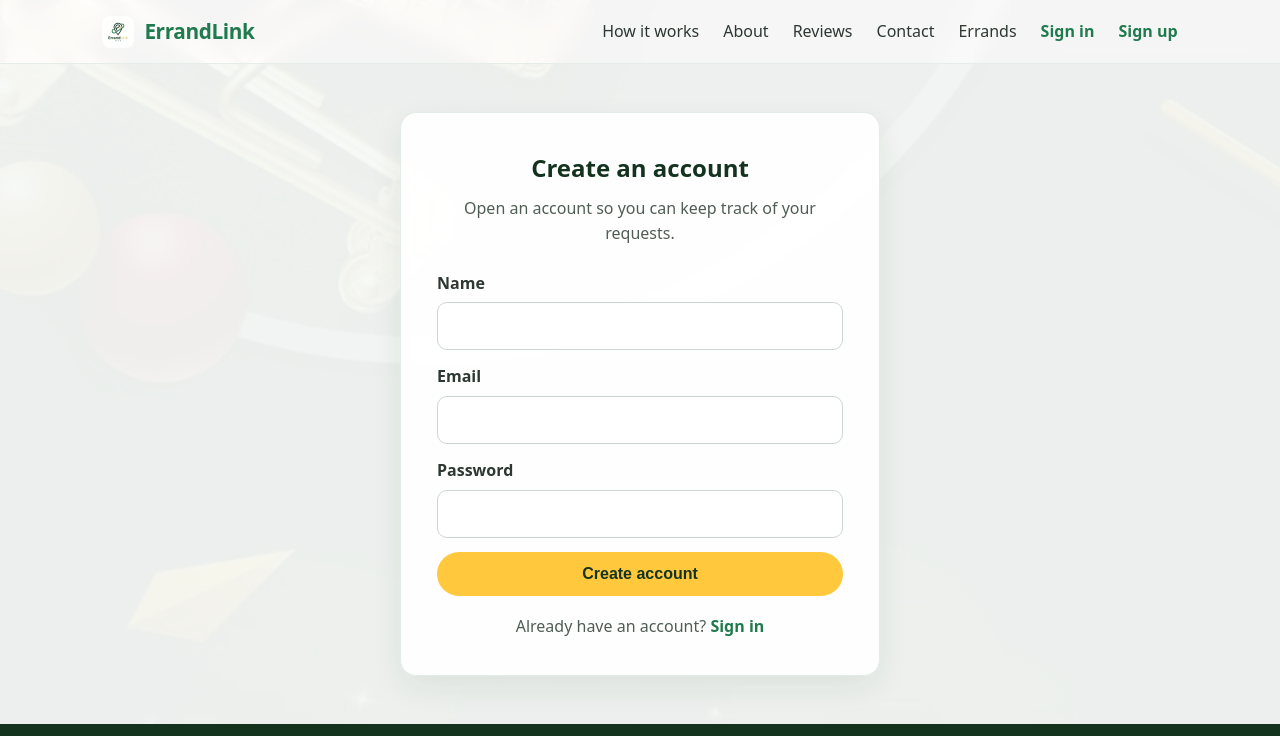
it: authentication › registers a new account
Type "Ada" into the field labelled "Name" at (640, 326), box [437,302,843,350]
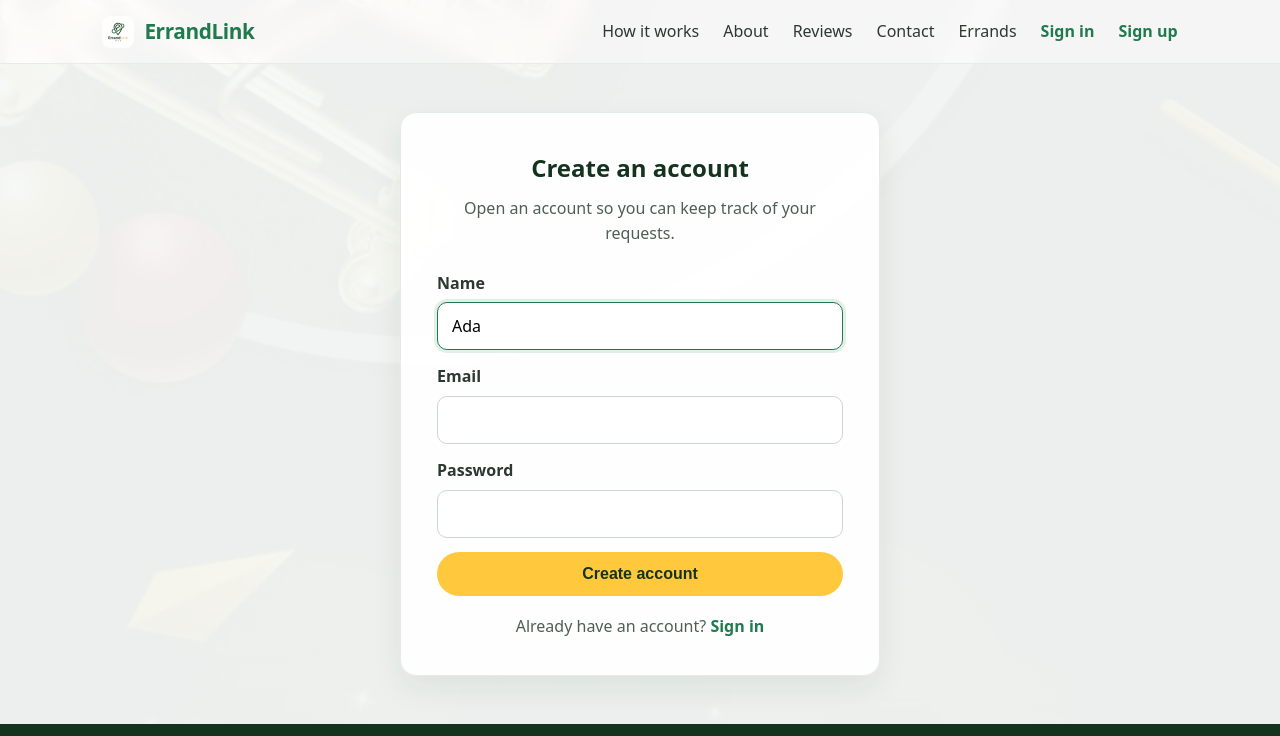
Type "ada@example.com" into the field labelled "Email" at (640, 420), box [437,396,843,444]
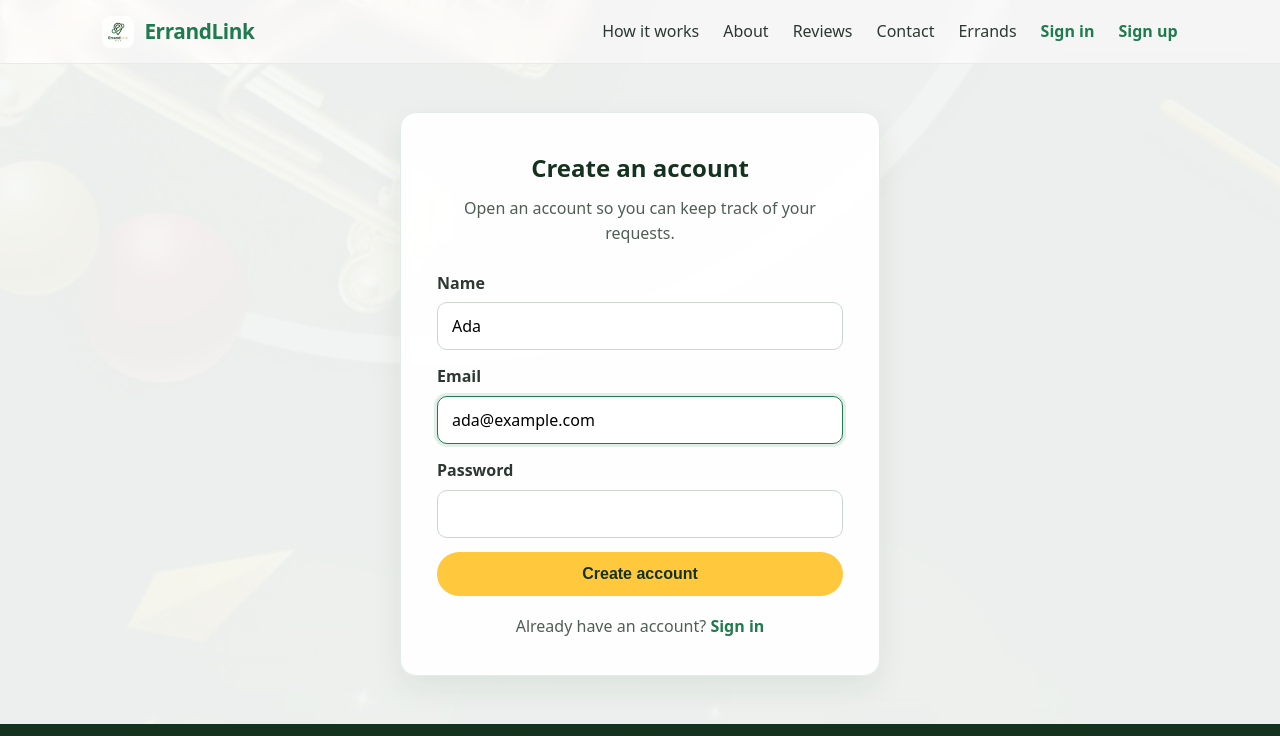
Type "secret1" into the password field labelled "Password" at (640, 514), box [437,490,843,538]
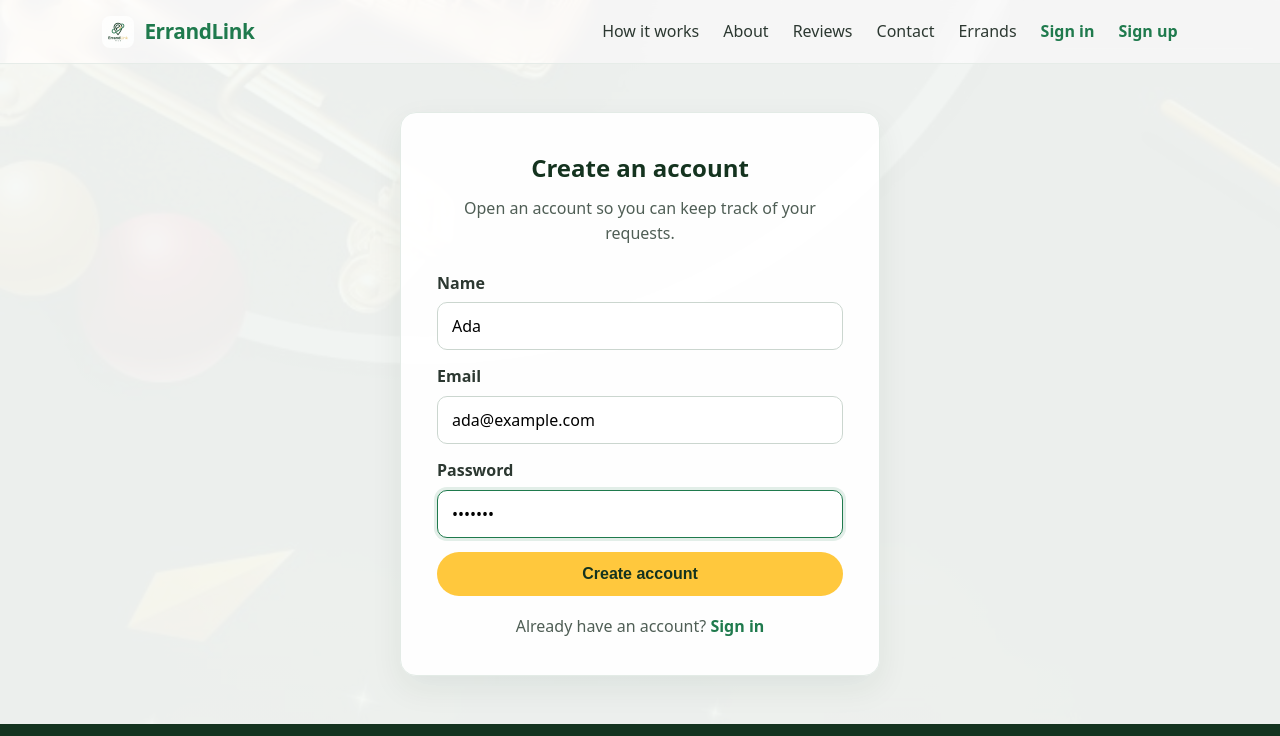
Click the button "Create account" at (640, 574), box [437,552,843,596]
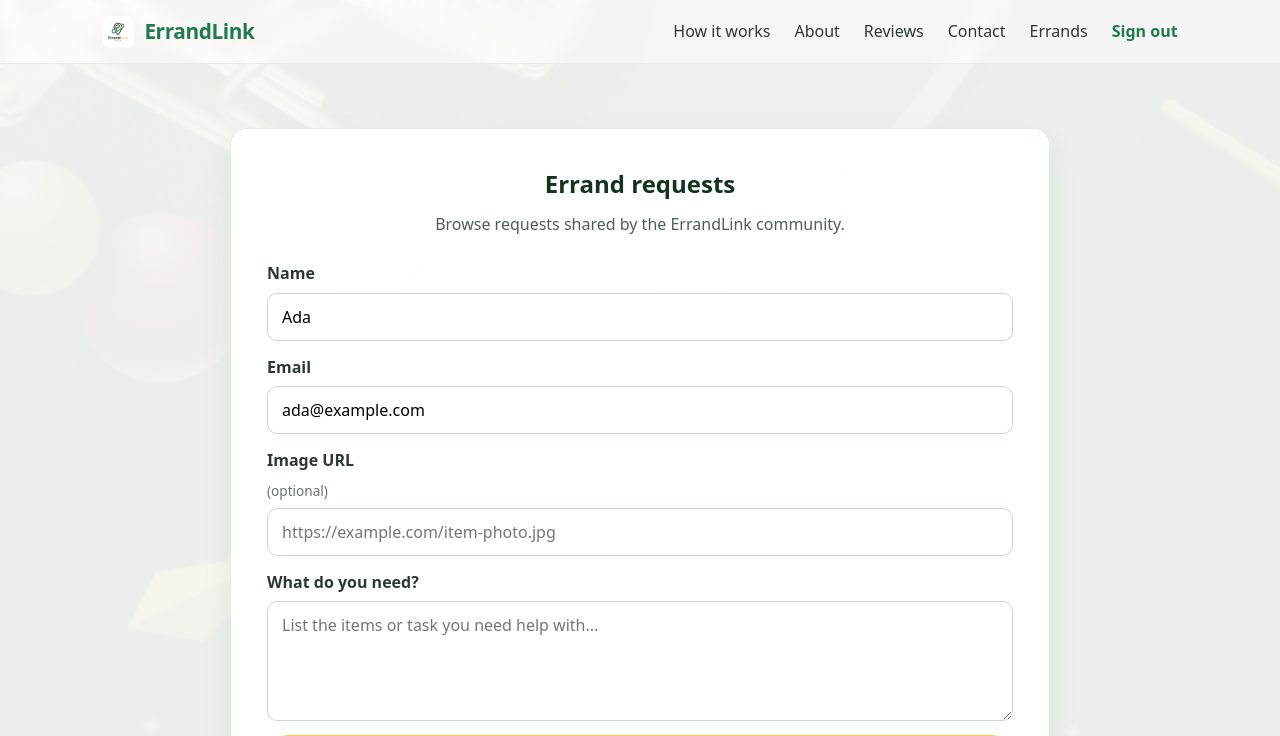
Now the heading "Errand requests" is shown, box [545,167,735,200]
